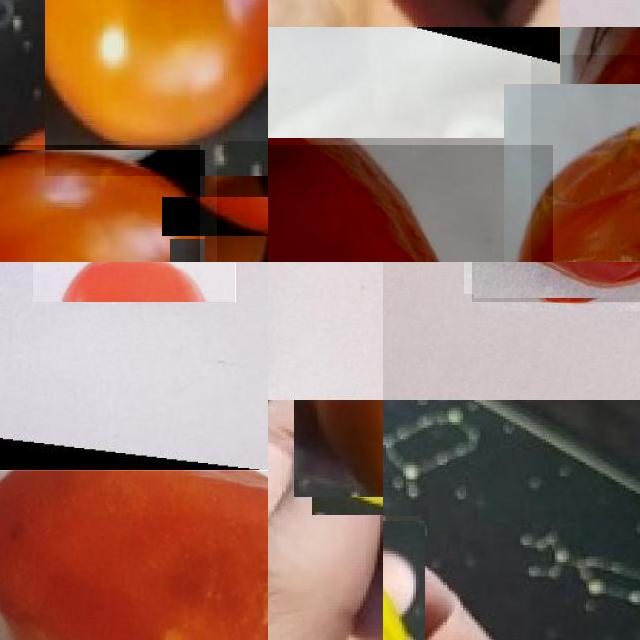1: (268, 145, 553, 262), (531, 55, 640, 262)
Fresh Tomato: (45, 0, 268, 176), (0, 145, 199, 262), (33, 262, 235, 302), (217, 141, 268, 262)
Rotten Tomato: (0, 471, 268, 640)
